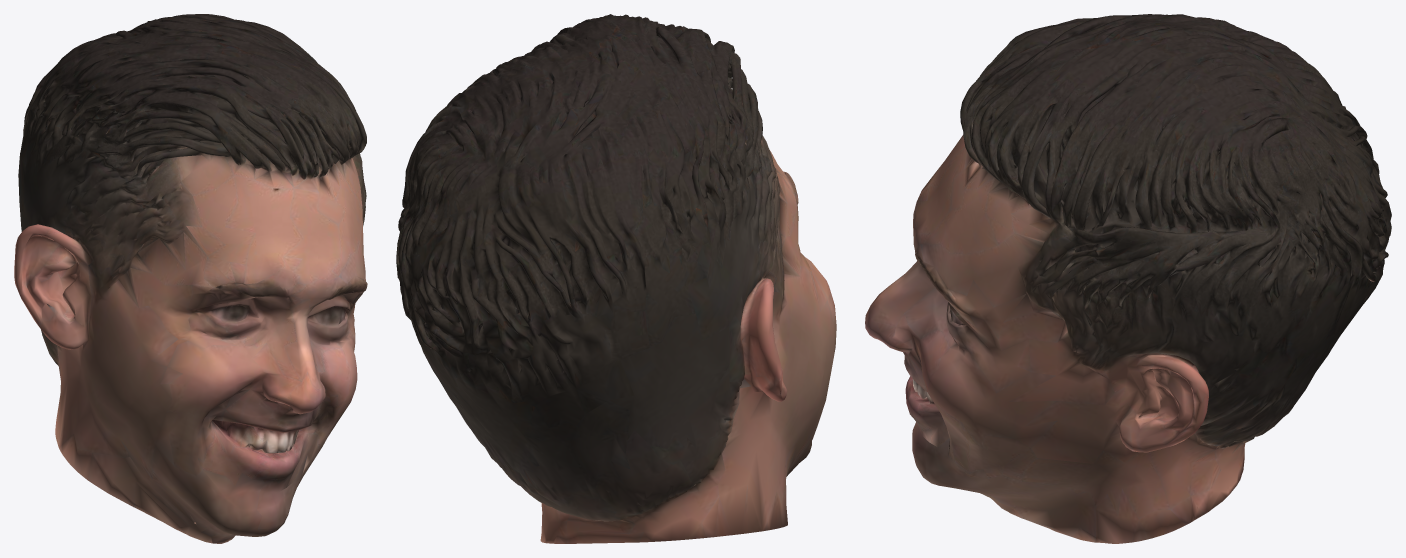
File: head_benja.glb
3 renders of one model, left to right at view 1: azimuth 30°, elevation 25°; view 2: azimuth 150°, elevation 25°; view 3: azimuth 270°, elevation 25°, orthographic. The views are drawn at different scales.
Parts seen in each view (by area): view 1: Mesh_0; view 2: Mesh_0; view 3: Mesh_0.
Part boxes in pixels (x1,y1,x2,y2): Mesh_0: (14,14,367,543); Mesh_0: (396,14,836,543); Mesh_0: (865,14,1391,543).
Bounding box in the file's own units: 0.837 × 1.15 × 1.11.
1 material, 1 textured.
